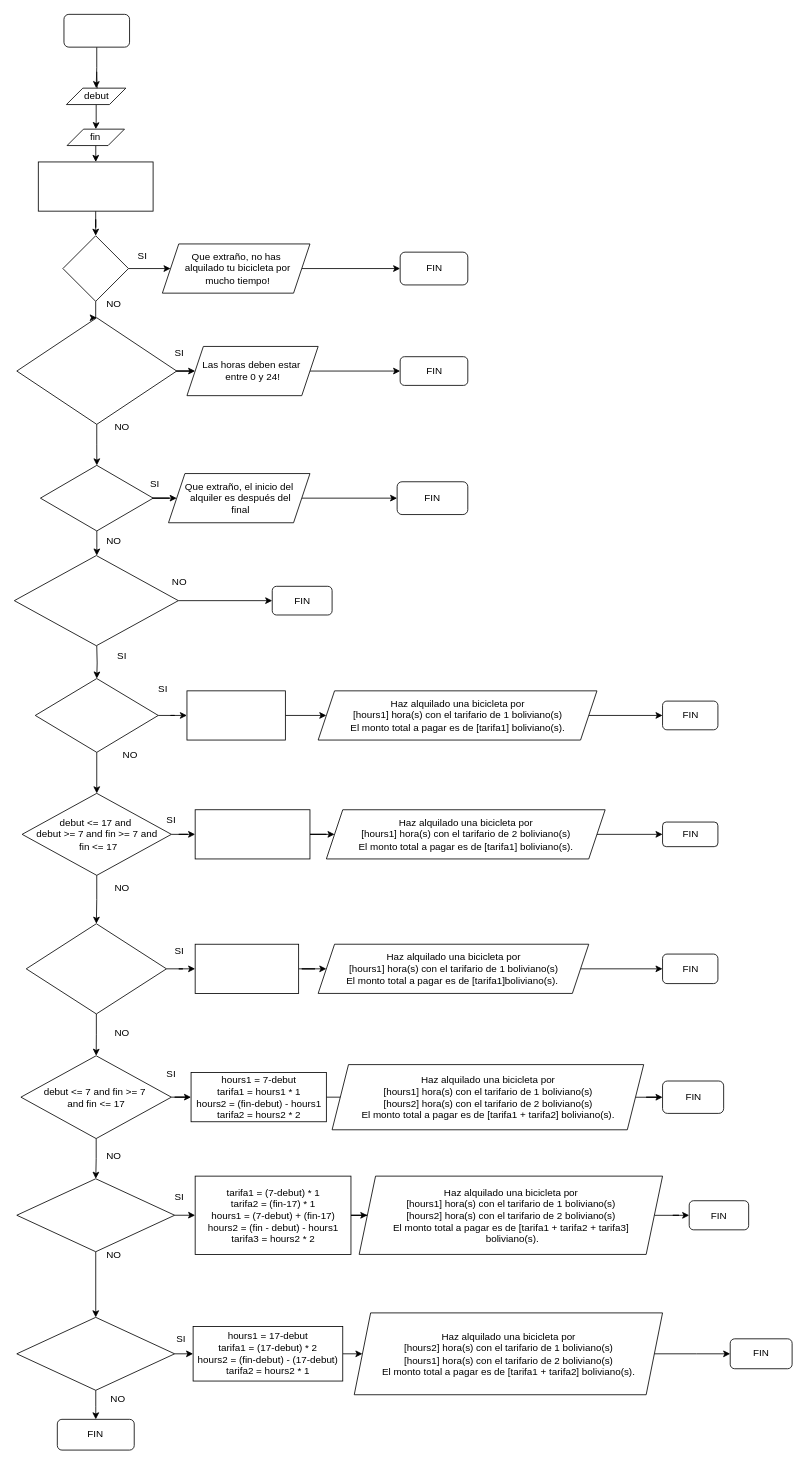
This 807x1465 diagram has some shape labels left out. The shapes that lost their labels are listed below. From the top down, each one's centre as x and y in pixels, then its label:
At point 96,30: "INICIO".
At point 95,186: "hours1, hours2, hours3, tarifa1, tarifa2, tarifa3".
At point 95,268: "debut==fin".
At point 96,370: "debut > 24 or fin > 24 or debut < 0 or fin < 0".
At point 96,498: "debut > fin".
At point 96,600: "debut >=0 and debut <= 24 and fin >=0 and fin <=24".
At point 96,715: "debut <= 7 and fin <= 7".
At point 235,715: "hours1 = fin-debut tarifa1 = hours1 *1".
At point 252,834: "hours1 = fin - debut tarifa1 = hours1 * 2".
At point 95,968: "debut <= 24 and debut >= 17 and fin >= 17 and fin <= 24".
At point 246,968: "hours1 = fin - debut tarifa1 = hours1 * 1".
At point 95,1215: "debut <= 7 and fin >= 17 and fin <= 24".
At point 95,1353: "debut <= 17 and debut >= 7 and fin >= 17 and fin <= 24".
